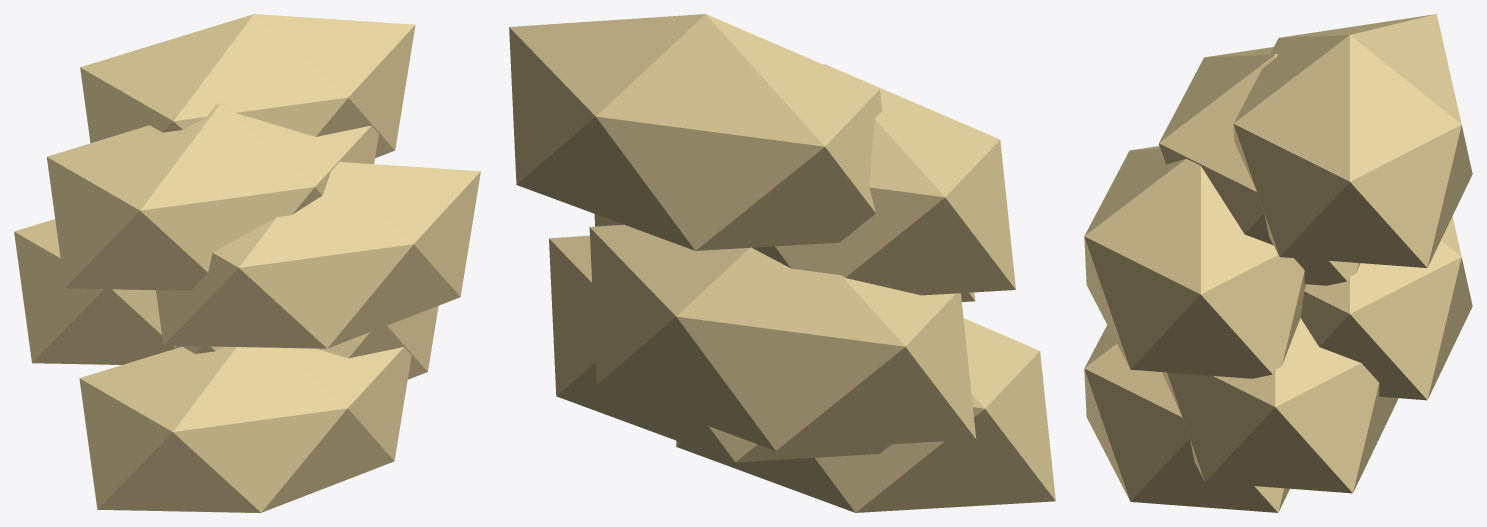
Rendered from item_067_millet_l.glb.
3 views of the same model, side by side, from view 1: azimuth 30°, elevation 25°; view 2: azimuth 150°, elevation 25°; view 3: azimuth 270°, elevation 25° (orthographic). The views are drawn at different scales.
Parts seen in each view (by area): view 1: item_067_millet_l; view 2: item_067_millet_l; view 3: item_067_millet_l.
Boxes of the visible parts, x1,y1,x2,y2 form: item_067_millet_l: (14,14,480,512); item_067_millet_l: (509,14,1055,512); item_067_millet_l: (1084,14,1472,512).
Bounding box in the file's own units: 0.4065 × 0.4406 × 0.3126.
